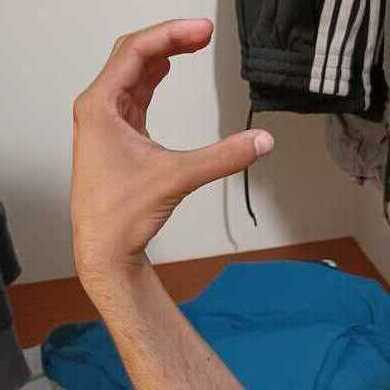C: (70, 16, 275, 264)
